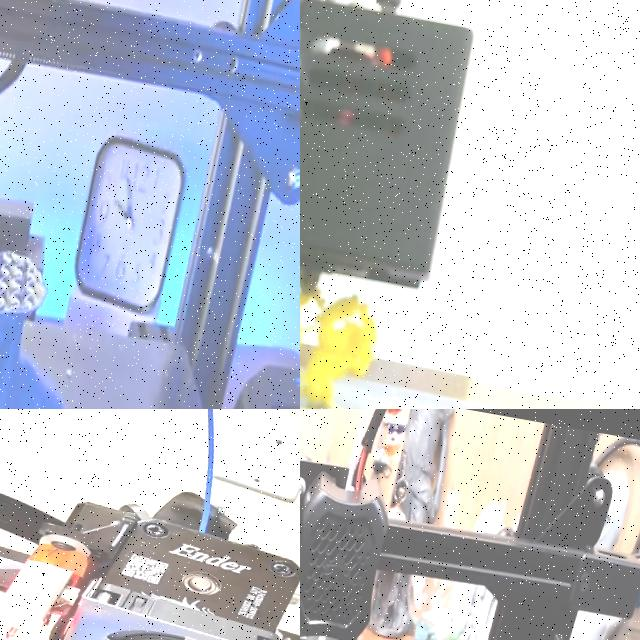spaghetti: (300, 288, 378, 408)
